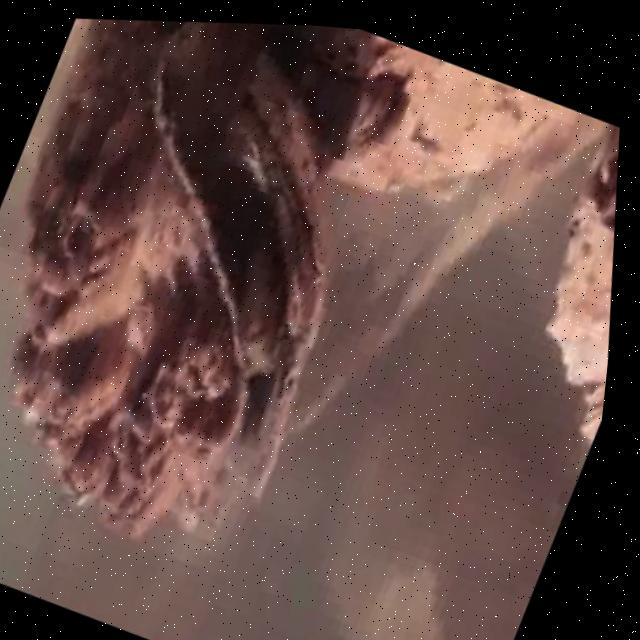Oyster-Indeterminate: (308, 25, 565, 185), (276, 28, 408, 171), (552, 209, 615, 443)
Oyster-Open: (17, 19, 326, 538), (587, 127, 620, 214)
